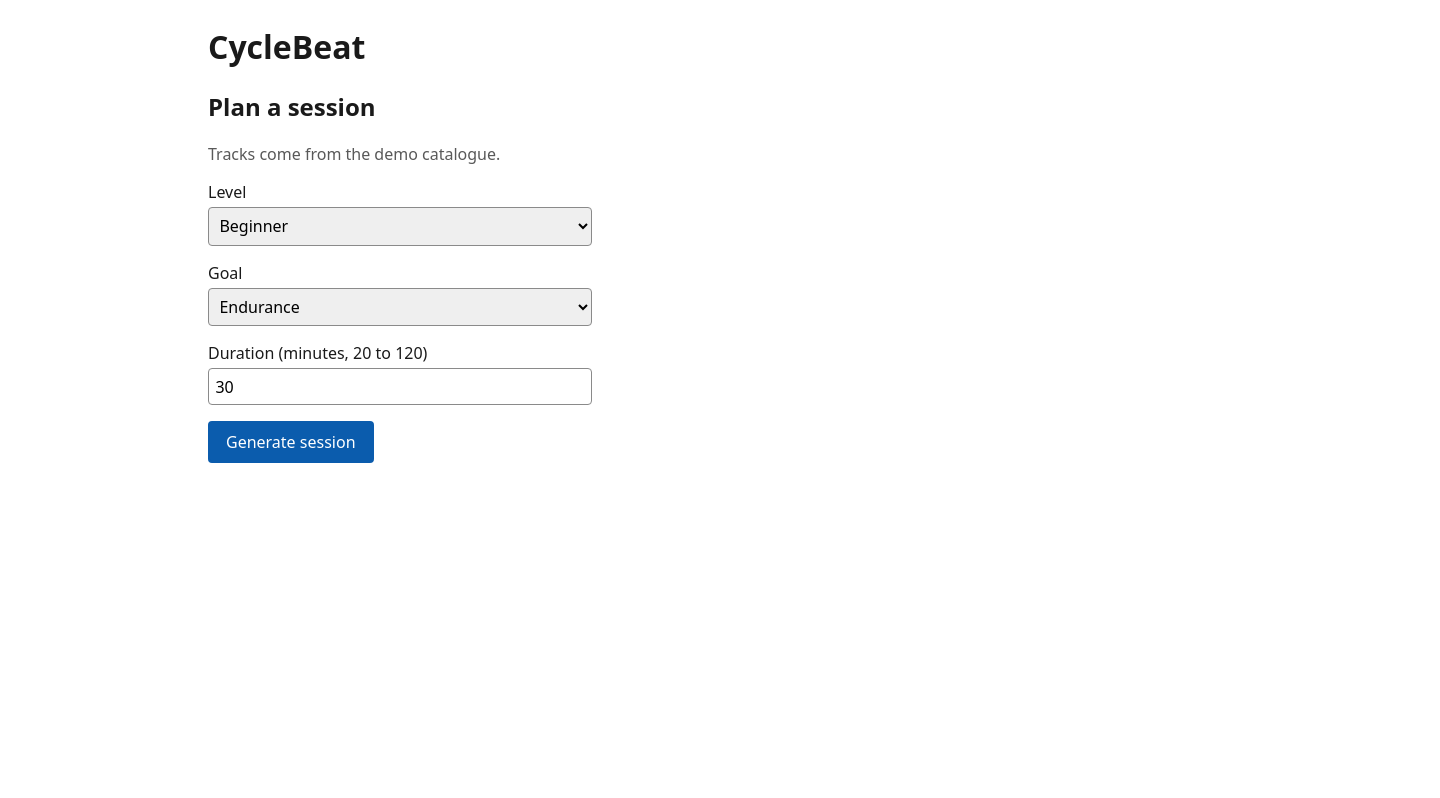
Test: App › wakes the API on load, then goes from the form to the session
Click the button "Generate session": (291, 442) [208, 421, 374, 463]
(page scrolled)
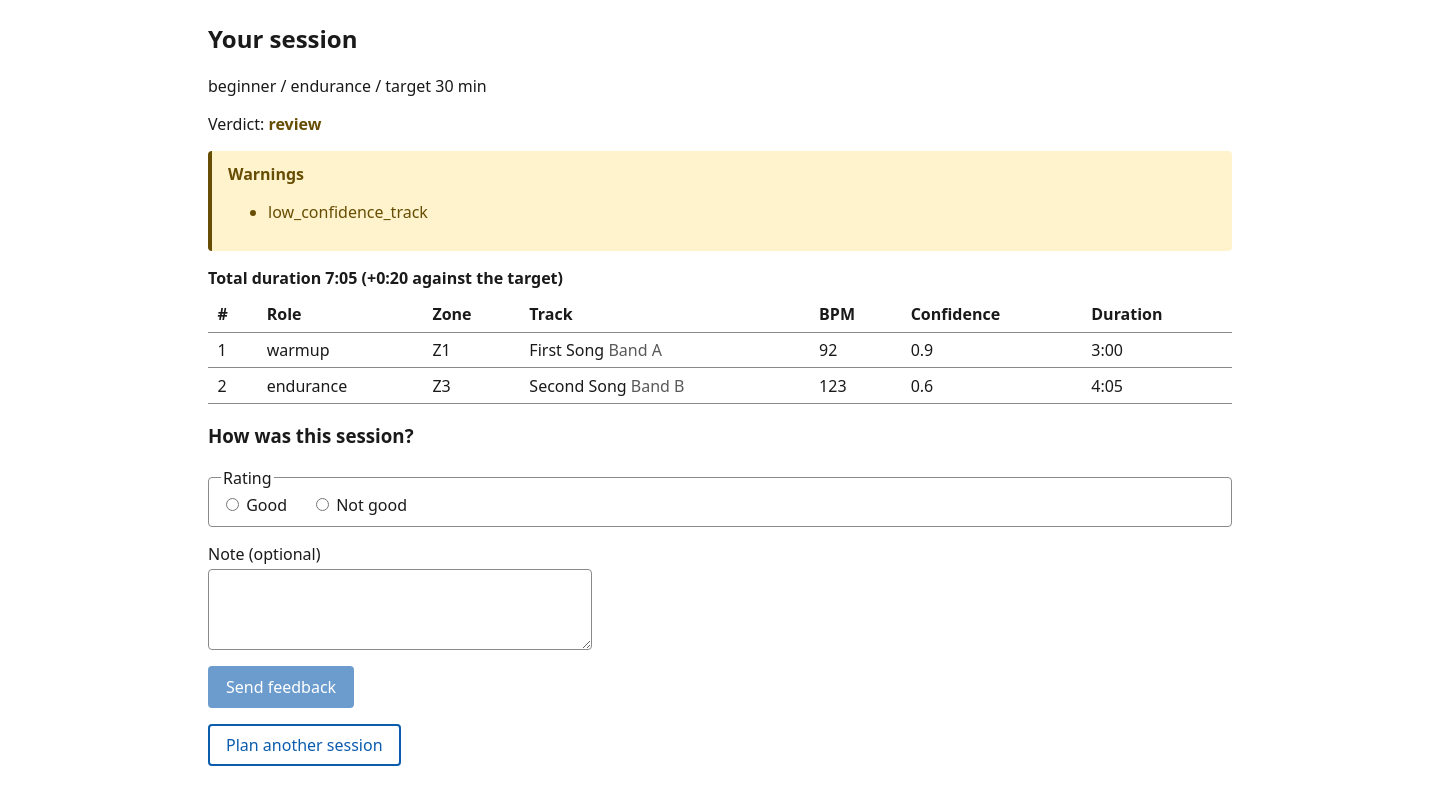
Result: the heading "Your session" is shown at [208, 22, 358, 55]
Click the button "Plan another session": (304, 745) [208, 724, 400, 766]
(page scrolled)
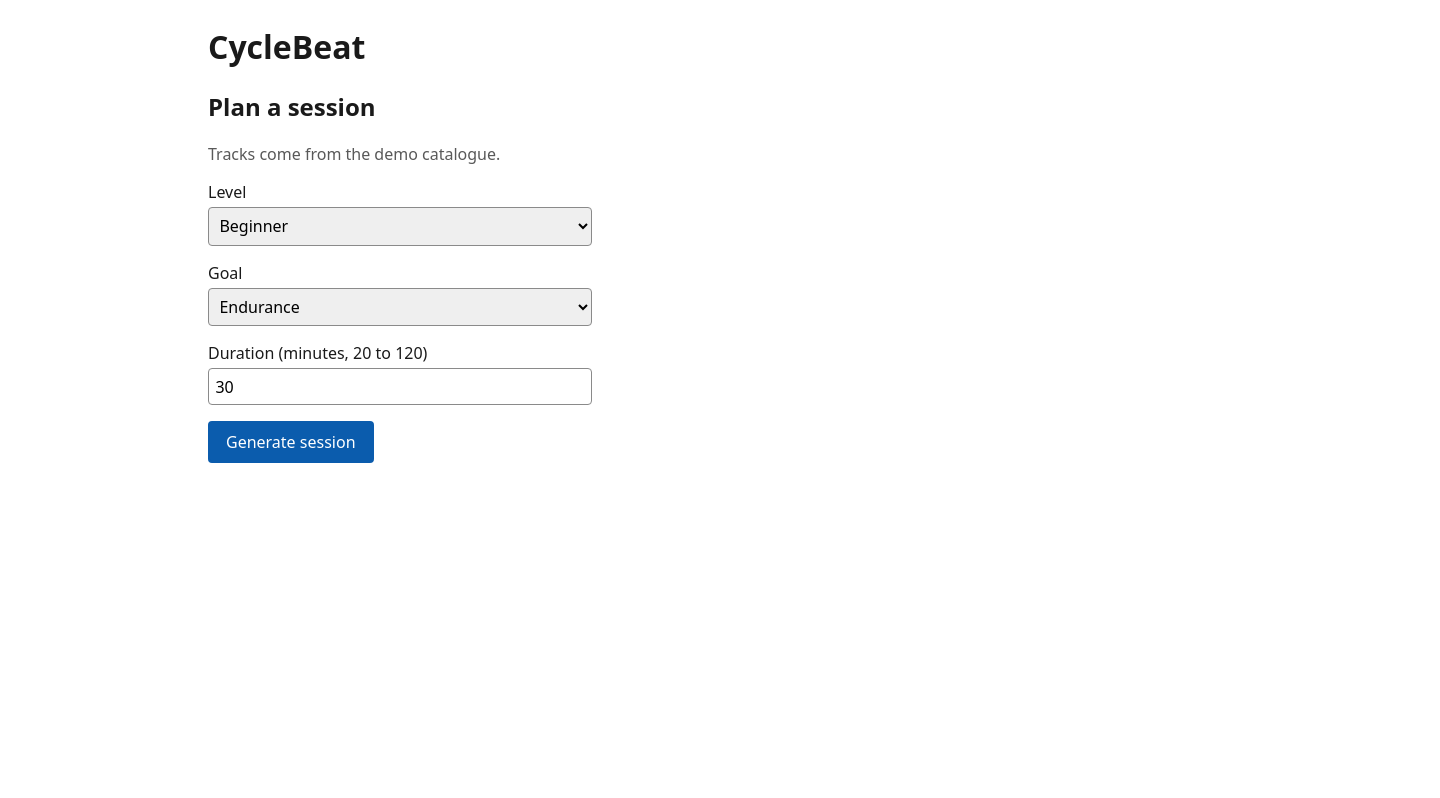
Result: the heading "Plan a session" is shown at [208, 90, 376, 123]
